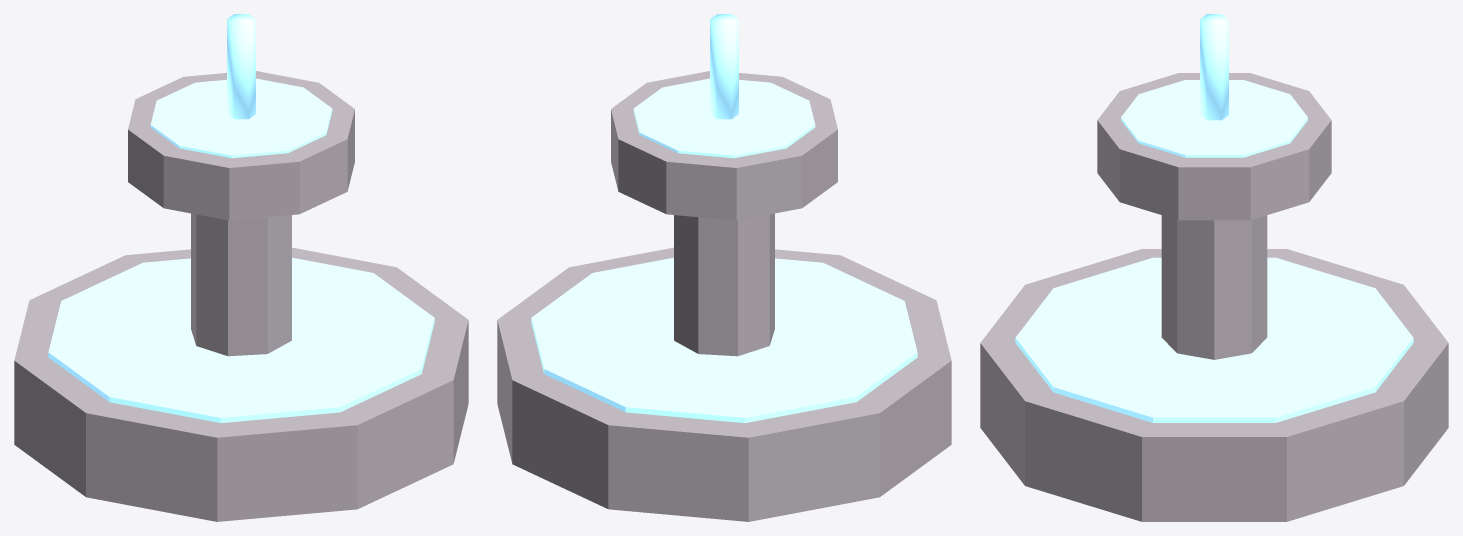
Rendered from Deco_Fountain.fbx.
The picture shows the model from 3 angles, left to right: view 1: azimuth 30°, elevation 25°; view 2: azimuth 150°, elevation 25°; view 3: azimuth 270°, elevation 25°; orthographic projection.
Parts seen in each view (by area): view 1: Deco_Fountain_Basin, Deco_Fountain_Water_Lower, Deco_Fountain_TopBasin, Deco_Fountain_Stem, Deco_Fountain_Water_Upper, Deco_Fountain_Spout; view 2: Deco_Fountain_Basin, Deco_Fountain_Water_Lower, Deco_Fountain_TopBasin, Deco_Fountain_Stem, Deco_Fountain_Water_Upper, Deco_Fountain_Spout; view 3: Deco_Fountain_Basin, Deco_Fountain_Water_Lower, Deco_Fountain_TopBasin, Deco_Fountain_Stem, Deco_Fountain_Water_Upper, Deco_Fountain_Spout.
Boxes of the visible parts, x1,y1,x2,y2 form: Deco_Fountain_Basin: [14, 247, 468, 521]; Deco_Fountain_Water_Lower: [48, 257, 434, 422]; Deco_Fountain_TopBasin: [128, 71, 354, 220]; Deco_Fountain_Stem: [191, 213, 291, 356]; Deco_Fountain_Water_Upper: [150, 78, 332, 158]; Deco_Fountain_Spout: [227, 14, 255, 119]; Deco_Fountain_Basin: [497, 247, 951, 521]; Deco_Fountain_Water_Lower: [531, 257, 917, 422]; Deco_Fountain_TopBasin: [611, 71, 837, 220]; Deco_Fountain_Stem: [674, 213, 774, 356]; Deco_Fountain_Water_Upper: [633, 78, 815, 158]; Deco_Fountain_Spout: [710, 14, 738, 119]; Deco_Fountain_Basin: [980, 249, 1448, 521]; Deco_Fountain_Water_Lower: [1015, 257, 1413, 422]; Deco_Fountain_TopBasin: [1097, 73, 1331, 220]; Deco_Fountain_Stem: [1161, 215, 1267, 359]; Deco_Fountain_Water_Upper: [1121, 80, 1307, 157]; Deco_Fountain_Spout: [1200, 14, 1228, 120].
Size of the model in its own units: 0.7608 by 0.77 by 0.8.
